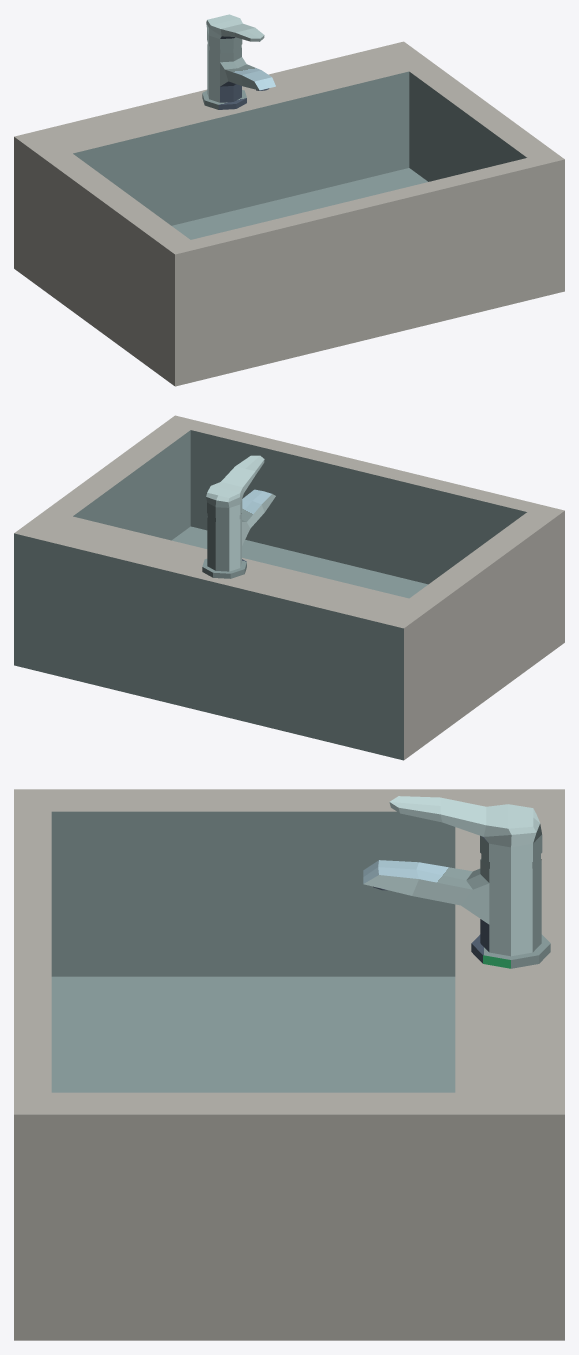
The model's file is lavatorio.gltf.
3 views of the same model, one above another, from view 1: azimuth 30°, elevation 25°; view 2: azimuth 150°, elevation 25°; view 3: azimuth 270°, elevation 25° (orthographic). The views are drawn at different scales.
Parts seen in each view (by area): view 1: Base, Faucet; view 2: Base, Faucet; view 3: Base, Faucet.
Part boxes in pixels (left/top/right/bottom): Base: left=14, top=41, right=564, bottom=386; Faucet: left=202, top=14, right=275, bottom=109; Base: left=14, top=415, right=564, bottom=760; Faucet: left=202, top=455, right=275, bottom=578; Base: left=14, top=789, right=564, bottom=1340; Faucet: left=363, top=796, right=550, bottom=968.
Bounding box in the file's own units: 0.7195 × 0.3877 × 0.515.
2 materials, 2 textured.
